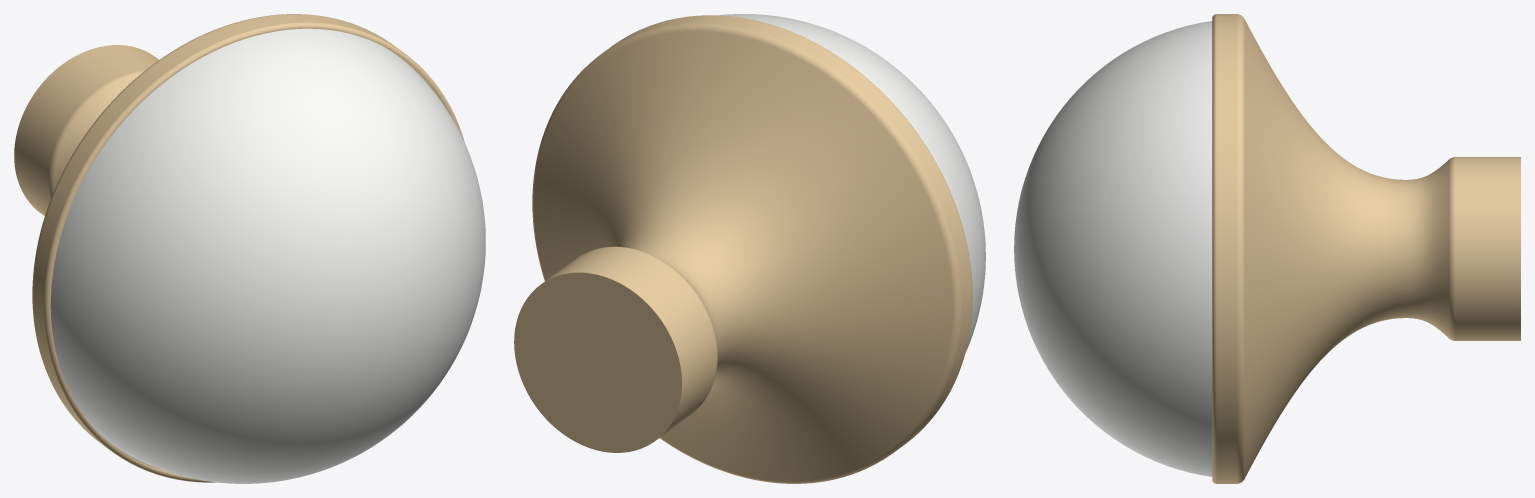
File: dome.obj
3 renders of one model, left to right at view 1: azimuth 30°, elevation 25°; view 2: azimuth 150°, elevation 25°; view 3: azimuth 270°, elevation 25°, orthographic. The views are drawn at different scales.
Visible parts, largest first — view 1: dome, base; view 2: base, dome; view 3: base, dome.
Part boxes in pixels (x1=…): dome: x1=50, y1=28, x2=485, y2=483; base: x1=14, y1=14, x2=464, y2=482; base: x1=514, y1=15, x2=972, y2=483; dome: x1=719, y1=14, x2=985, y2=352; base: x1=1212, y1=14, x2=1520, y2=483; dome: x1=1014, y1=21, x2=1212, y2=476.
Size of the model in its own units: 102 by 102 by 110.
